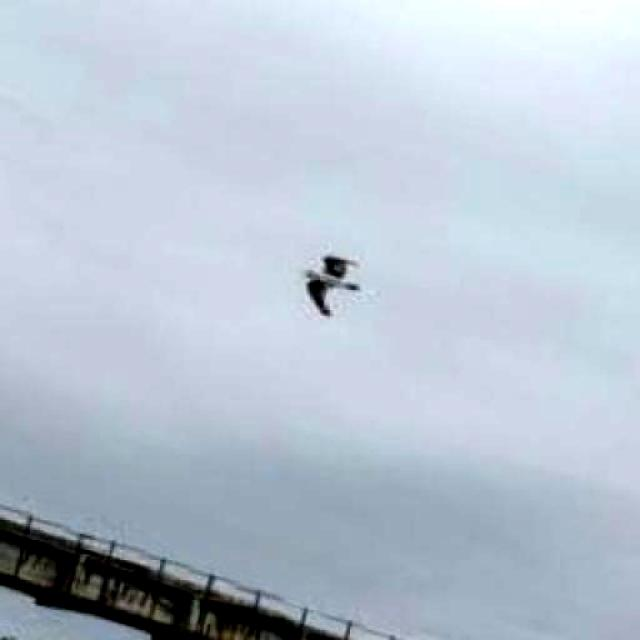airplane: (288, 249, 366, 325)
